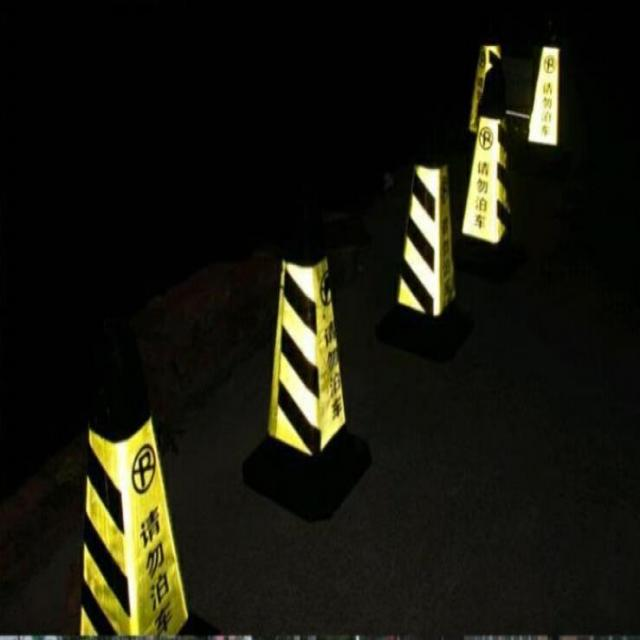reflective_cone: (69, 306, 213, 639), (244, 216, 367, 516), (370, 134, 472, 358), (453, 76, 526, 279), (520, 28, 574, 177), (464, 33, 508, 131)
